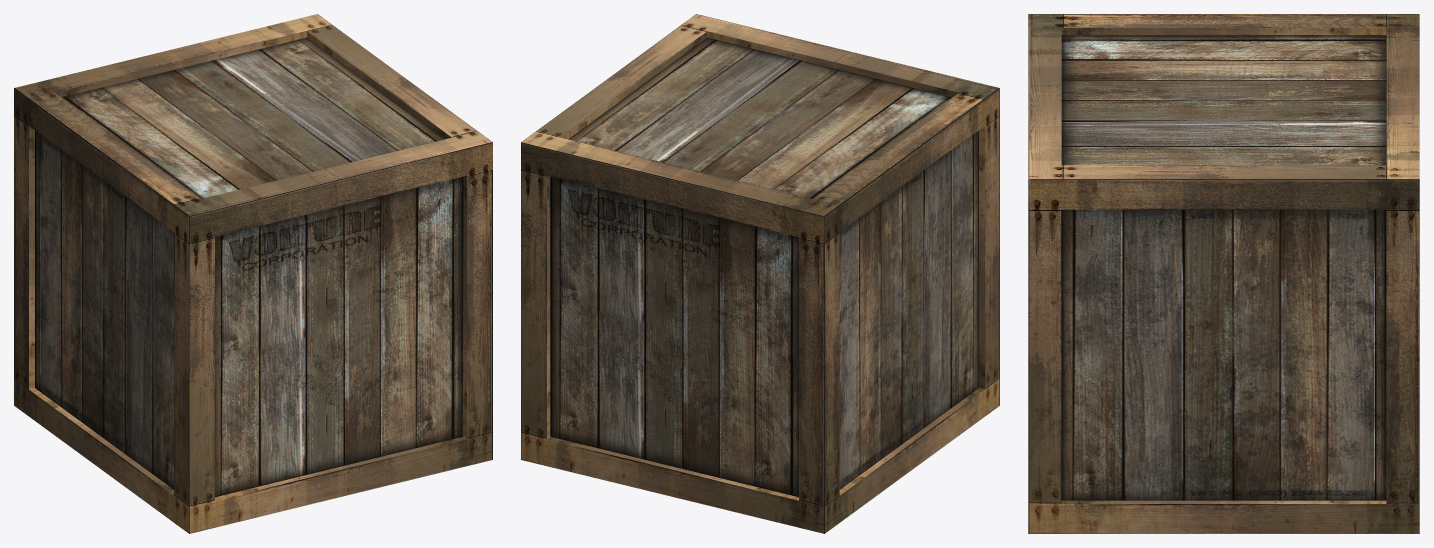
The picture shows the model from 3 angles, left to right: view 1: azimuth 30°, elevation 25°; view 2: azimuth 150°, elevation 25°; view 3: azimuth 270°, elevation 25°; orthographic projection. The views are drawn at different scales.
Visible parts, largest first — view 1: Wood_container1; view 2: Wood_container1; view 3: Wood_container1.
Boxes of the visible parts, box(x1,y1,x2,y2) form: Wood_container1: box(14, 14, 492, 533); Wood_container1: box(521, 14, 999, 533); Wood_container1: box(1028, 14, 1419, 533).
Size of the model in its own units: 1 by 1 by 1.
